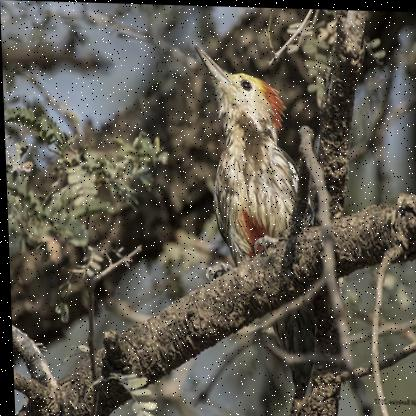Burung: (196, 42, 318, 398)
